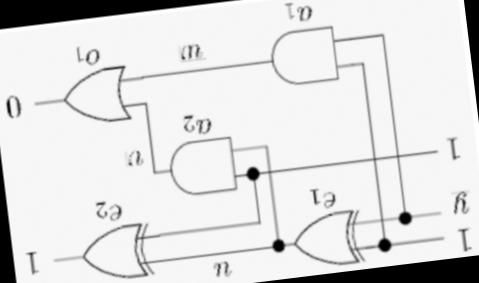and: (264, 22, 344, 94), (162, 130, 241, 202)
or: (59, 62, 136, 132)
xor: (288, 206, 369, 274), (77, 219, 154, 283)
